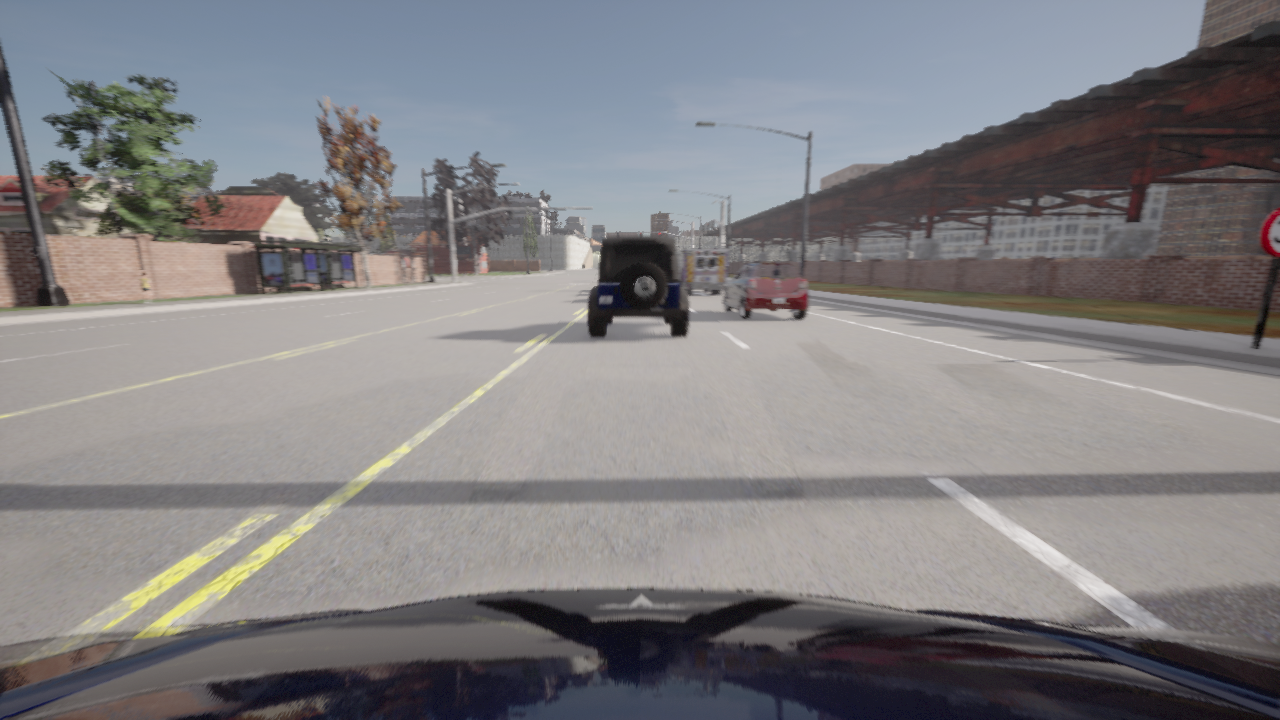cyclist: (0, 588, 1279, 719), (588, 236, 688, 336), (723, 262, 808, 319), (678, 249, 727, 294)
pedestrian: (139, 272, 153, 303)
